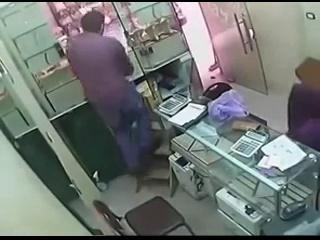Normal: (64, 9, 158, 176)
